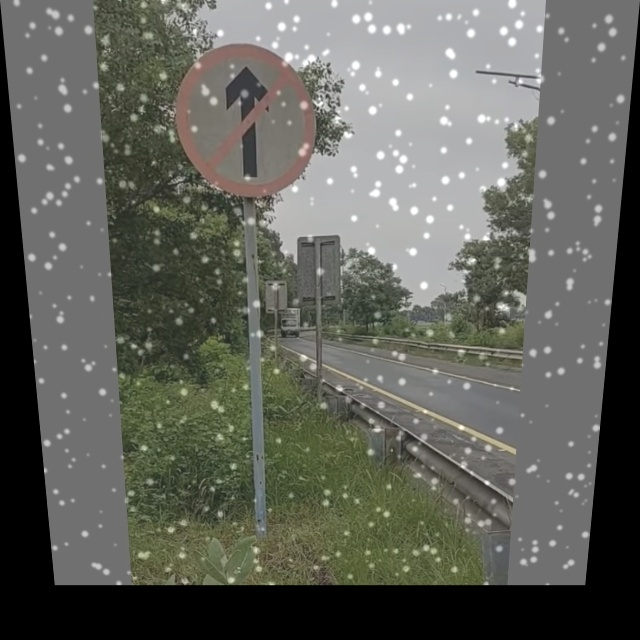No_Entry: (171, 47, 319, 194)
